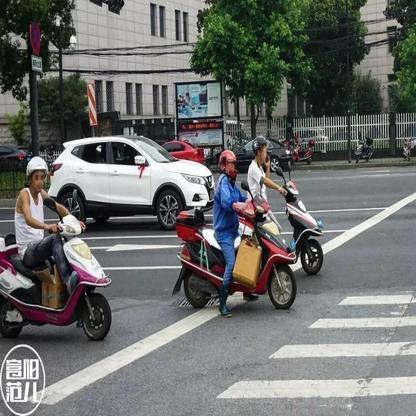target: (175, 149, 300, 320), (3, 155, 117, 341), (248, 134, 338, 274)
